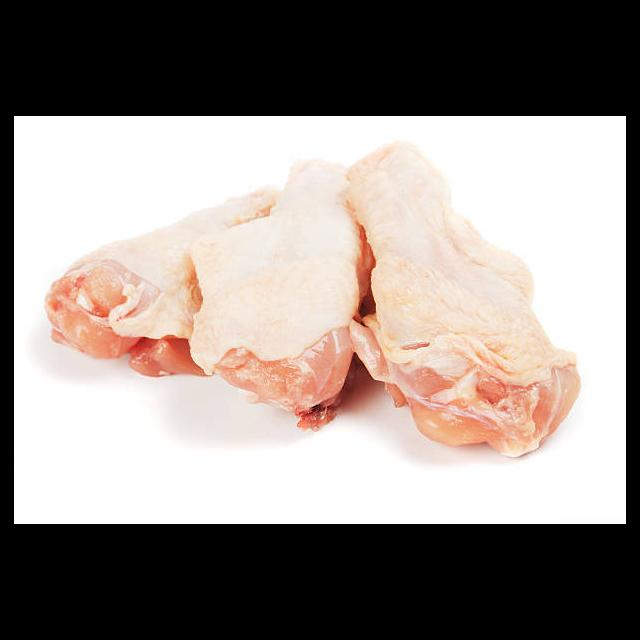chicken: (350, 139, 581, 461), (188, 156, 369, 434), (44, 186, 283, 376)
